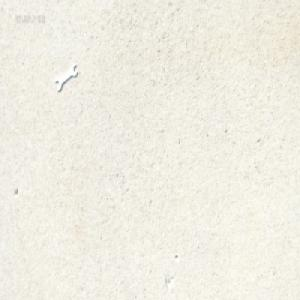Wrench: (54, 61, 77, 92)
